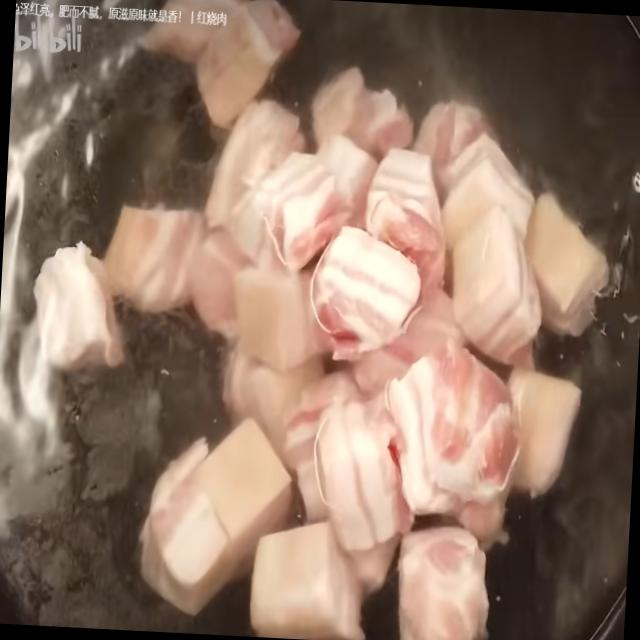--: (316, 341, 520, 559), (142, 414, 292, 618), (311, 224, 422, 358), (453, 205, 538, 369), (195, 0, 299, 126), (229, 156, 344, 269), (363, 152, 447, 292), (36, 245, 124, 374), (105, 207, 204, 308), (398, 530, 484, 640)
